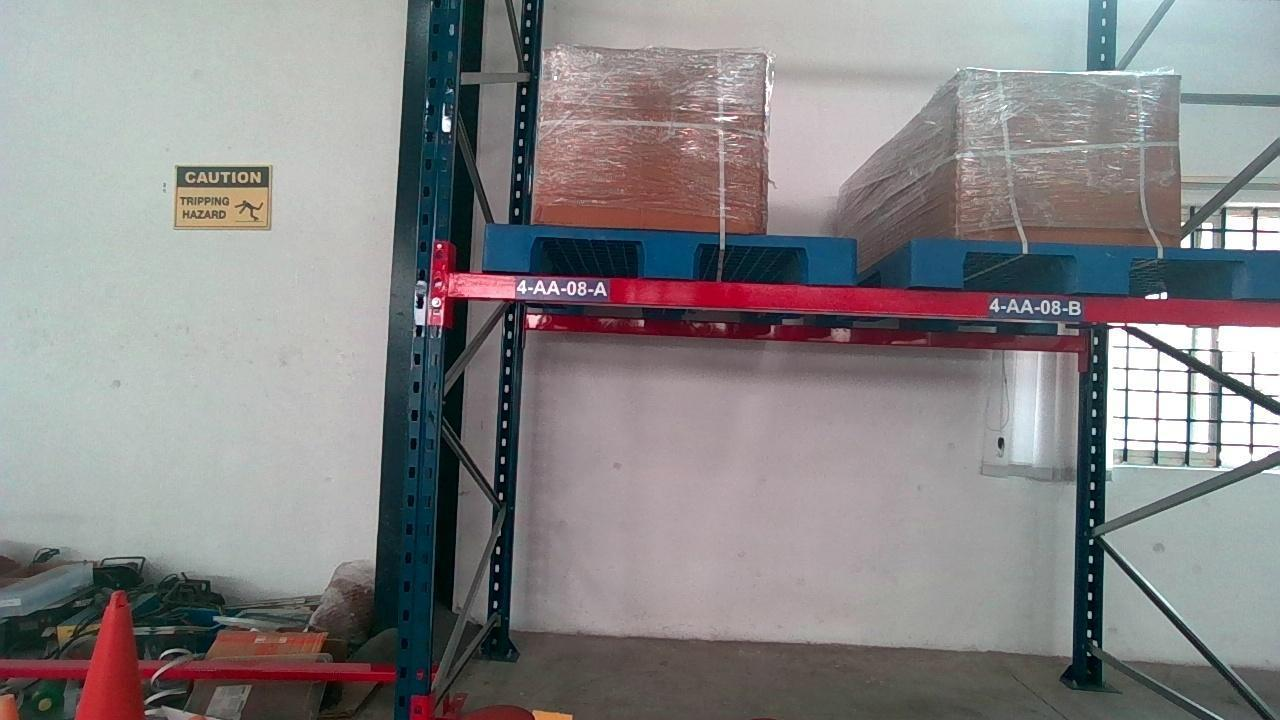small_pallet: (916, 241, 1275, 293), (483, 228, 855, 278)
